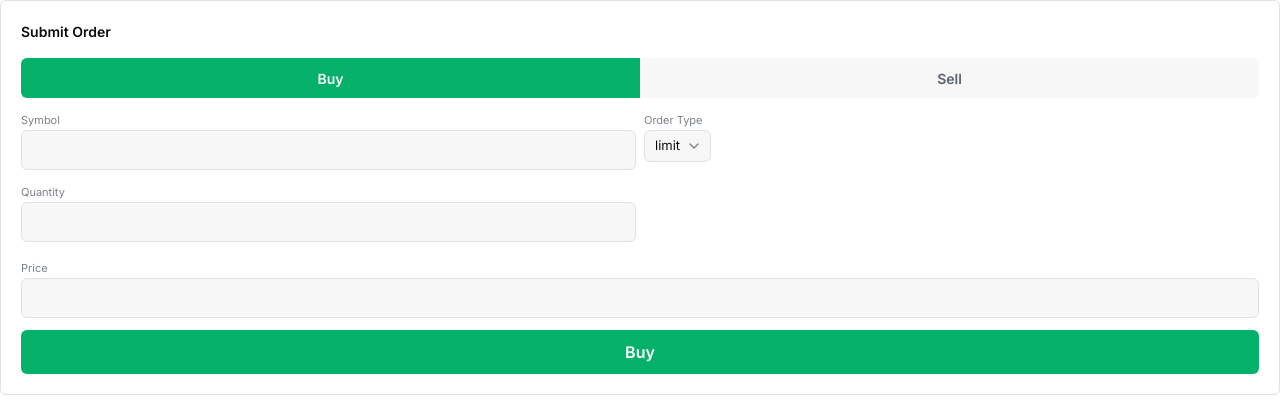
Test: OrderForm › switches to sell when Sell button clicked
Click the radio button "Sell" at x=950, y=78, box [640, 58, 1259, 98]
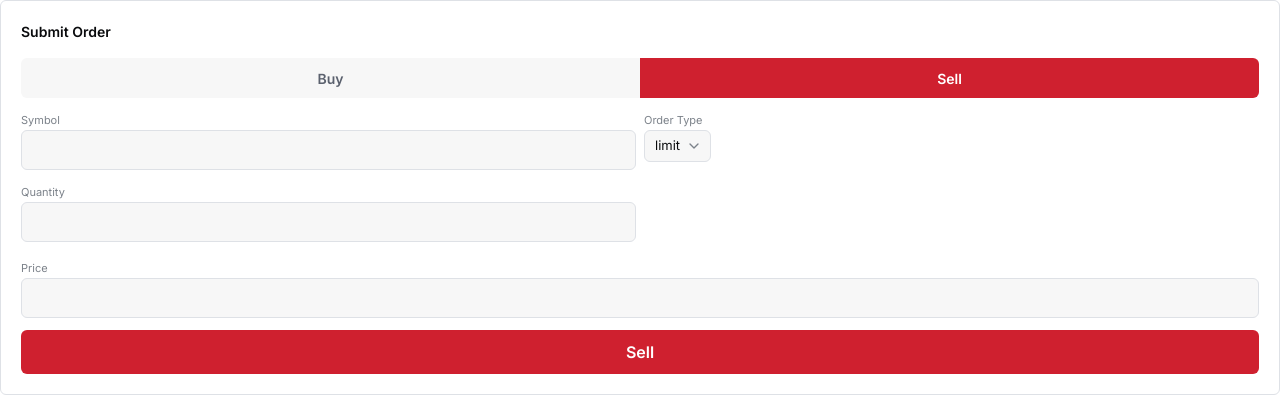
Result: the button "Sell" is shown at [21, 330, 1259, 374]
